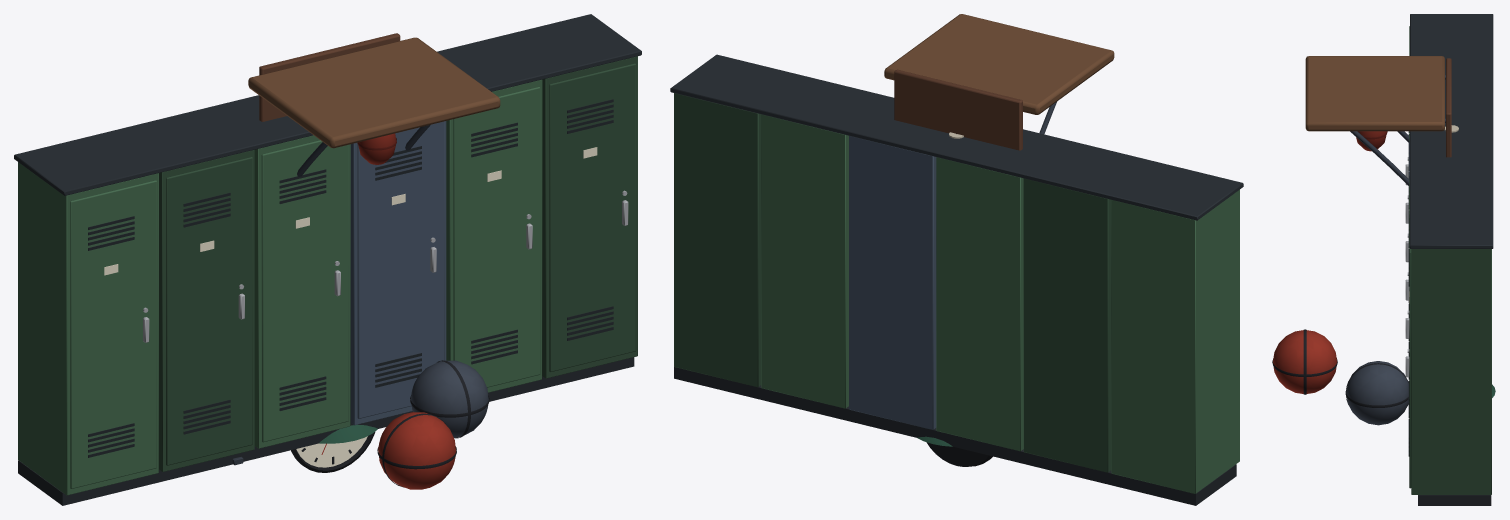
The model's file is gloryland-gym-props.glb.
The picture shows the model from 3 angles, left to right: view 1: azimuth 30°, elevation 25°; view 2: azimuth 150°, elevation 25°; view 3: azimuth 270°, elevation 25°; orthographic projection. The views are drawn at different scales.
Parts seen in each view (by area): view 1: Lockers, Speed_bag, Medicine_balls, Wall_clock; view 2: Lockers, Speed_bag, Wall_clock; view 3: Lockers, Speed_bag, Medicine_balls.
Part boxes in pixels (x1,y1,x2,y2): Lockers: [14, 14, 641, 505]; Speed_bag: [248, 33, 500, 176]; Medicine_balls: [377, 360, 489, 489]; Wall_clock: [291, 432, 375, 472]; Lockers: [670, 54, 1243, 505]; Speed_bag: [884, 14, 1114, 150]; Wall_clock: [926, 442, 992, 466]; Lockers: [1405, 14, 1493, 505]; Speed_bag: [1305, 56, 1451, 185]; Medicine_balls: [1272, 329, 1408, 425].
Size of the model in its own units: 3.74 by 2.58 by 1.52.
